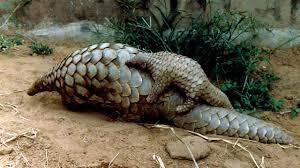Non_Gorille: (26, 22, 285, 144)
